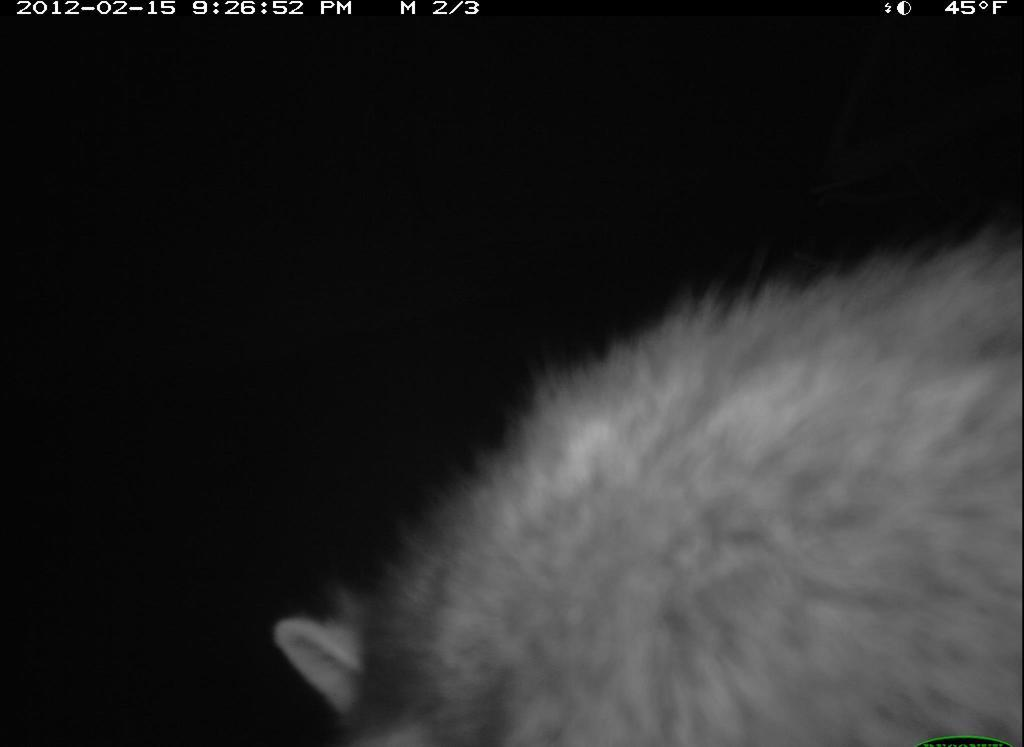raccoon: (263, 235, 1023, 747)
